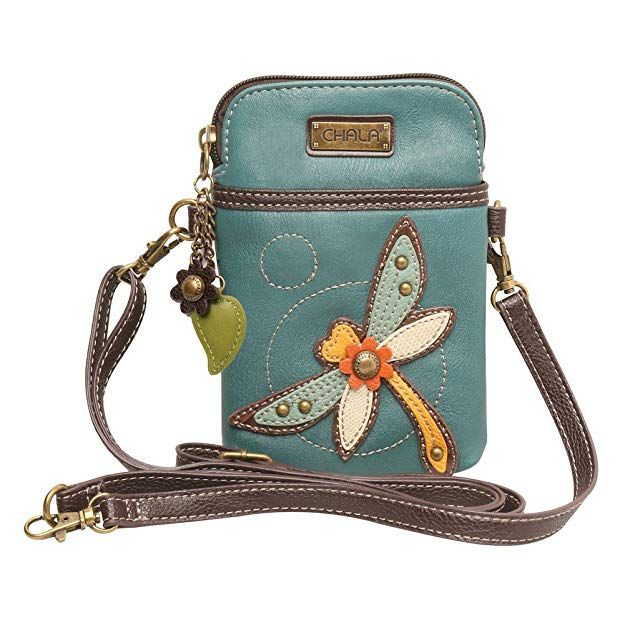cuero: (57, 74, 598, 546)
